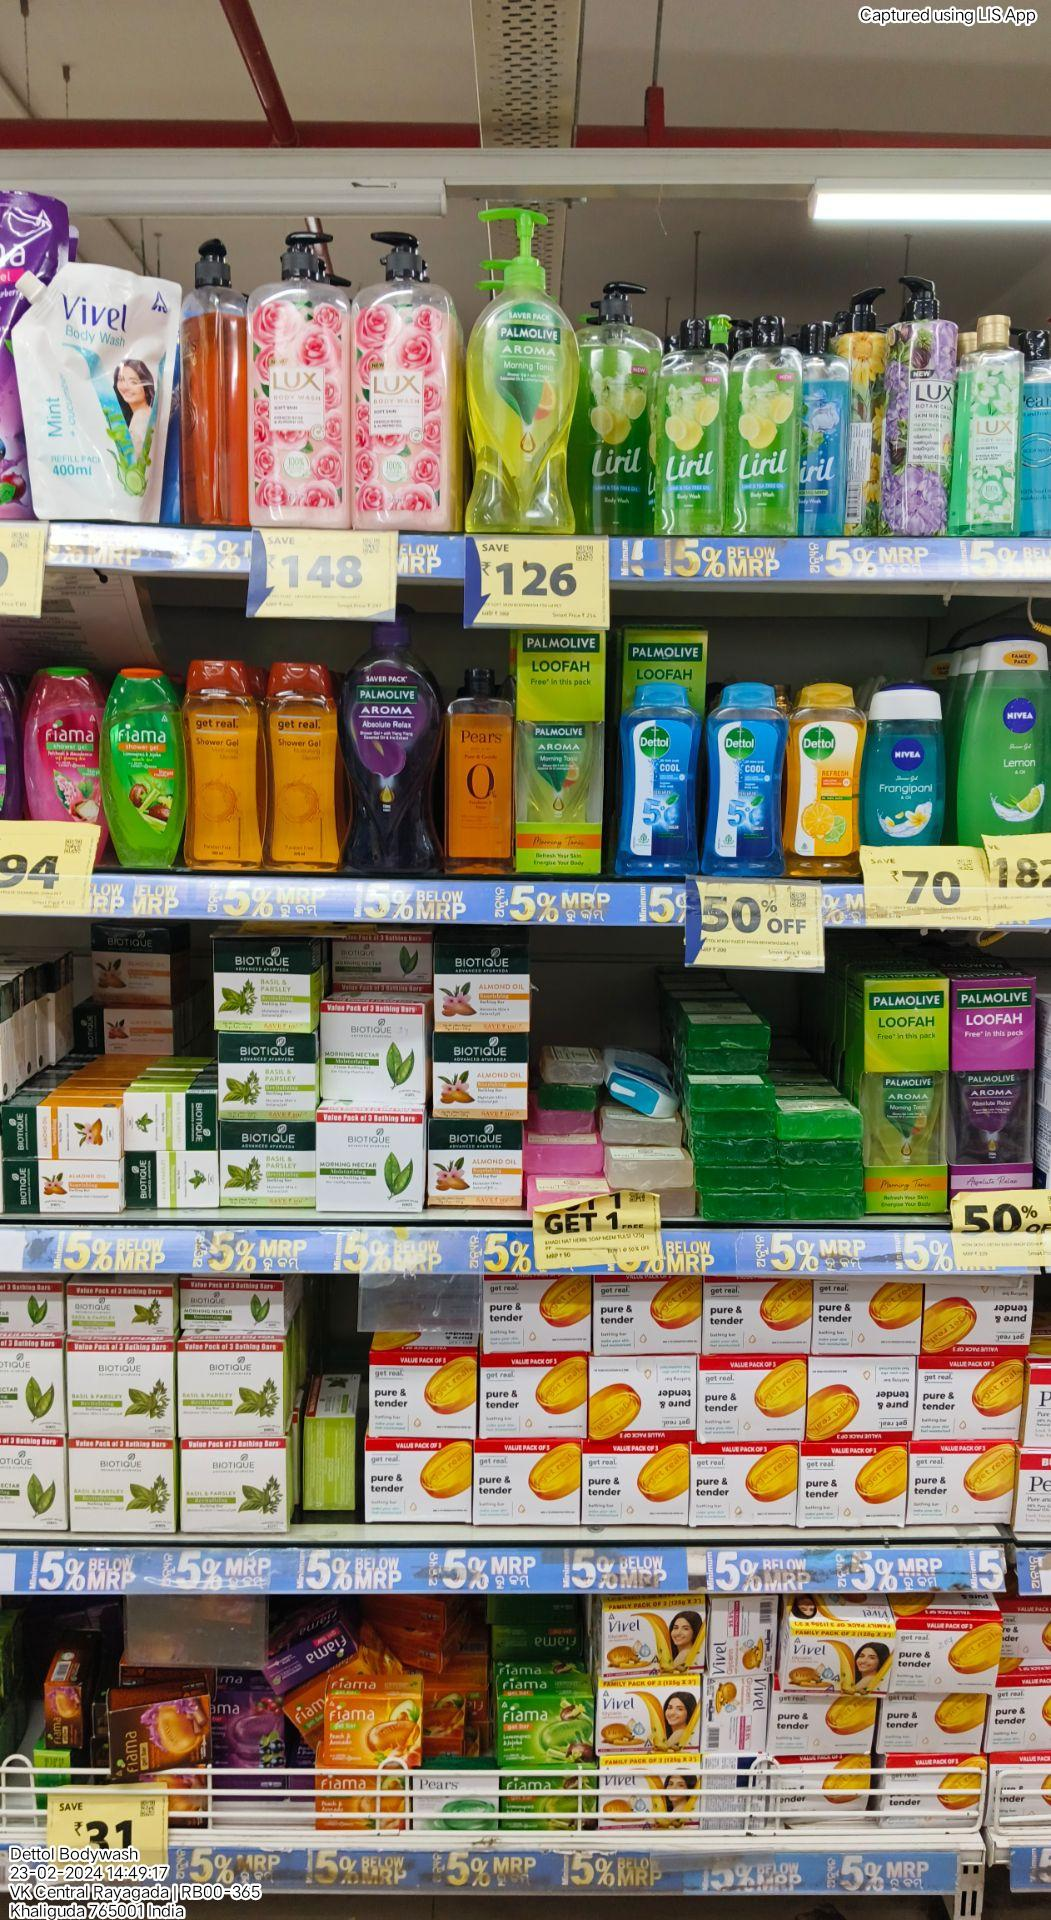Dettol_Bodywash_Cool: (619, 684, 702, 881), (700, 684, 784, 875)
Dettol_Bodywash_Refresh: (790, 687, 865, 880)
Fiama_Shower_Gel_Lemongrass_and_Jojoba_250ML: (104, 670, 184, 867)
Get_Real_Shower_Gel_Moisturising_Glycerin_300ML: (185, 655, 263, 872), (265, 664, 342, 873)
Liril_Lime_and_Tea_Tree_Oil_Body_Wash_250ML: (734, 317, 805, 533), (654, 323, 725, 533)
Lux_Body_Wash_Skin_Detox_Freesia_Scent_and_Alove_Vera_245ML: (954, 317, 1024, 536)
Nivea_Shower_Gel_Frangipani_and_Oil_250ML: (863, 687, 949, 846)
Nivea_Shower_Gel_Lemon_and_Oil_250ML: (955, 643, 1051, 833)
